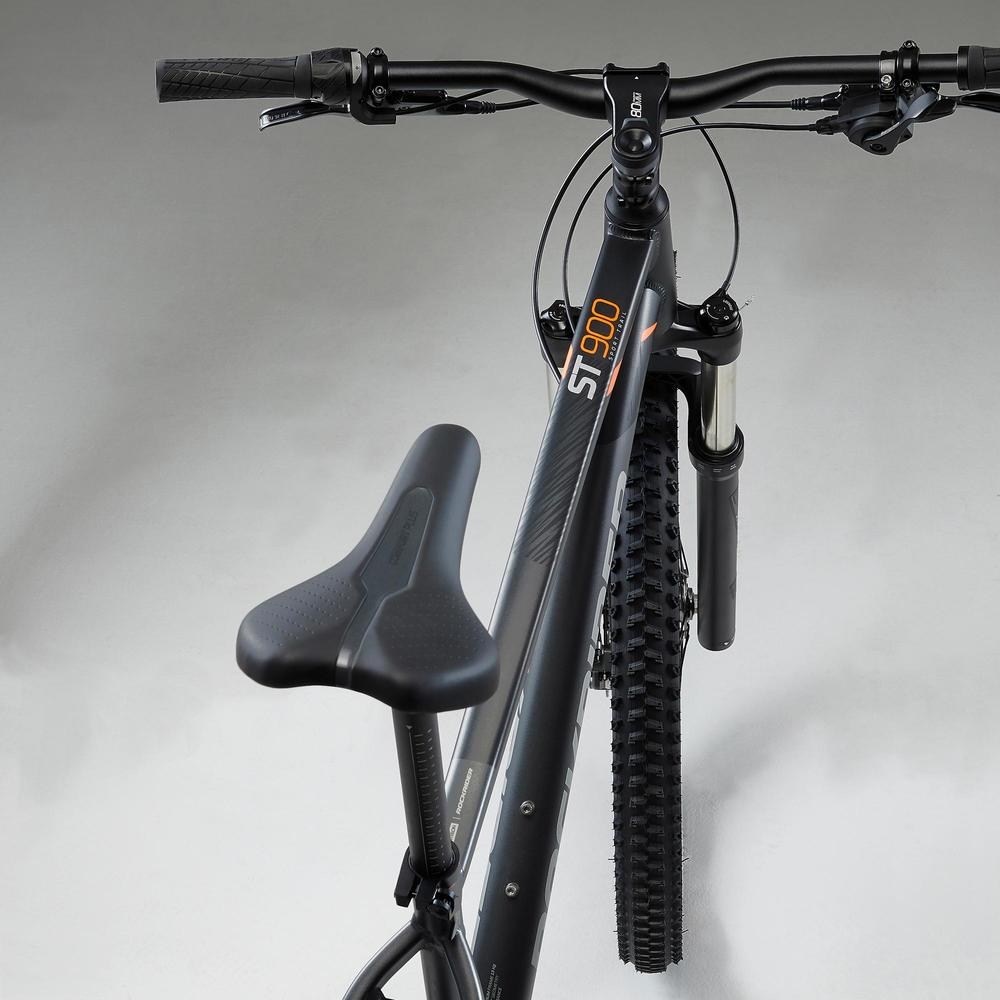MountainBike: (144, 35, 1000, 986)
